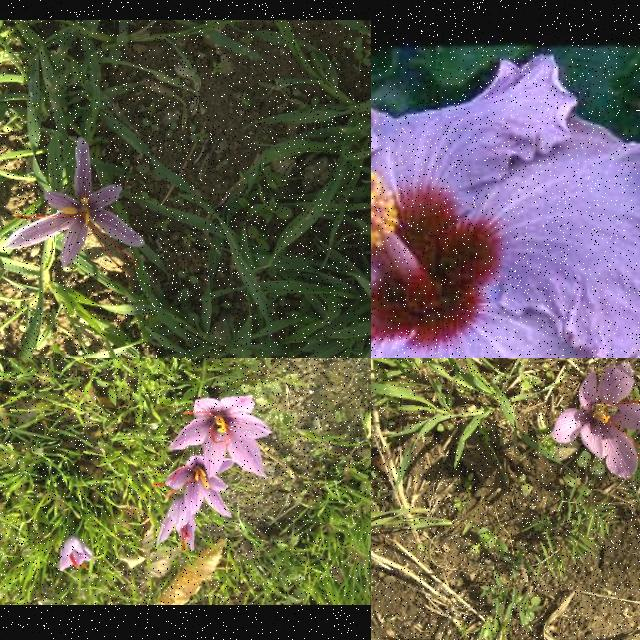flower: (4, 139, 146, 279), (551, 363, 640, 480), (167, 396, 273, 479), (152, 458, 234, 518), (156, 498, 198, 552), (58, 536, 94, 572)
